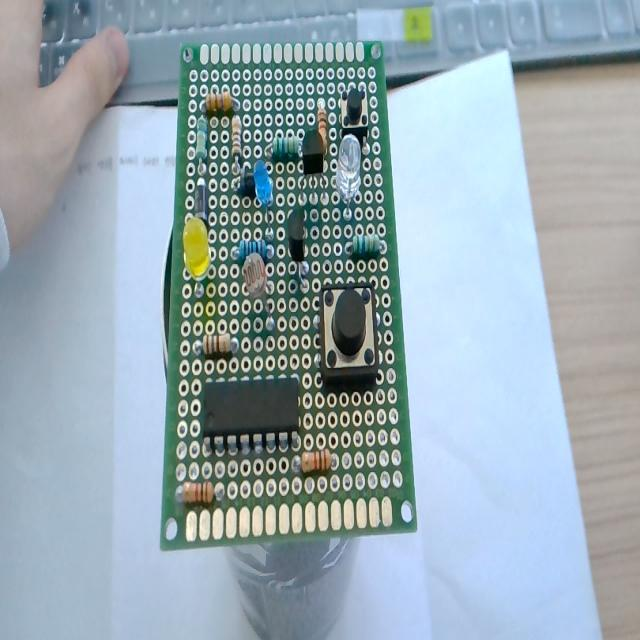IC: (200, 376, 298, 448)
cds: (242, 252, 267, 298)
diode: (190, 177, 212, 224)
led: (336, 133, 362, 207), (182, 216, 210, 279), (253, 159, 275, 206)
resistor: (230, 114, 246, 174), (194, 335, 239, 356), (295, 450, 334, 474), (182, 480, 216, 506), (205, 90, 237, 116), (271, 134, 299, 159), (238, 238, 268, 261), (352, 235, 380, 256), (195, 116, 208, 159), (317, 106, 328, 154)
switch: (318, 280, 379, 386), (340, 87, 369, 144)
transistor: (288, 208, 309, 286), (302, 129, 324, 175)
